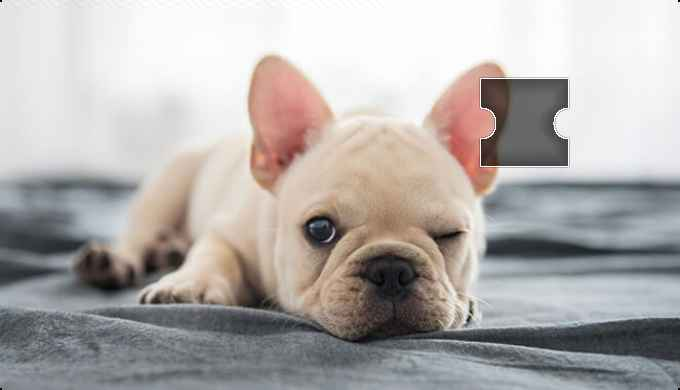gap: (479, 78, 569, 168)
